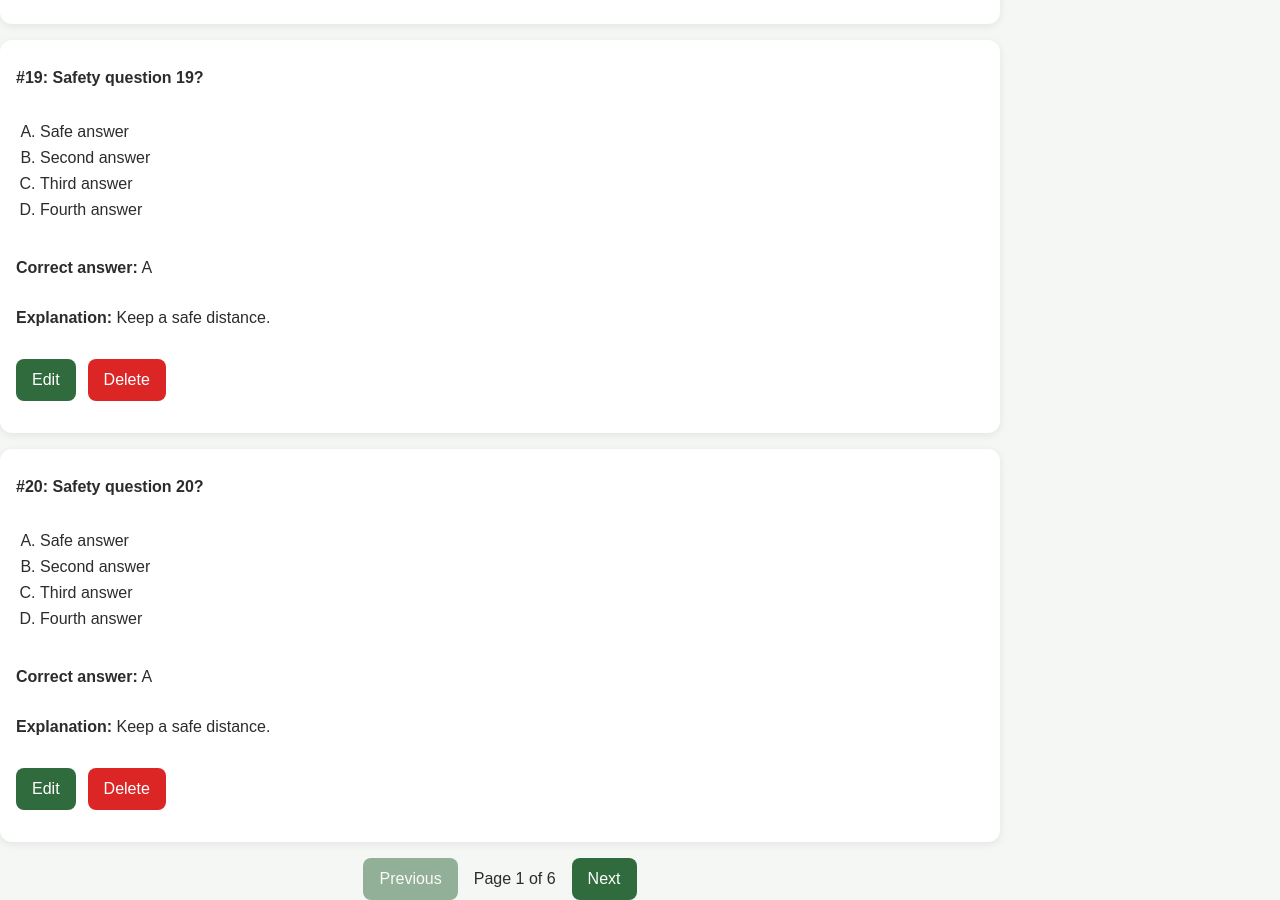
Scenario: Admin question bank › loads questions, displays read-only details and paginates a bank of 100+ questions
(page scrolled)
Expected: the button "Previous" is disabled, [364,858,458,899]
Step 1. Click the button "Next" → (604, 879), box [572,858,636,899]
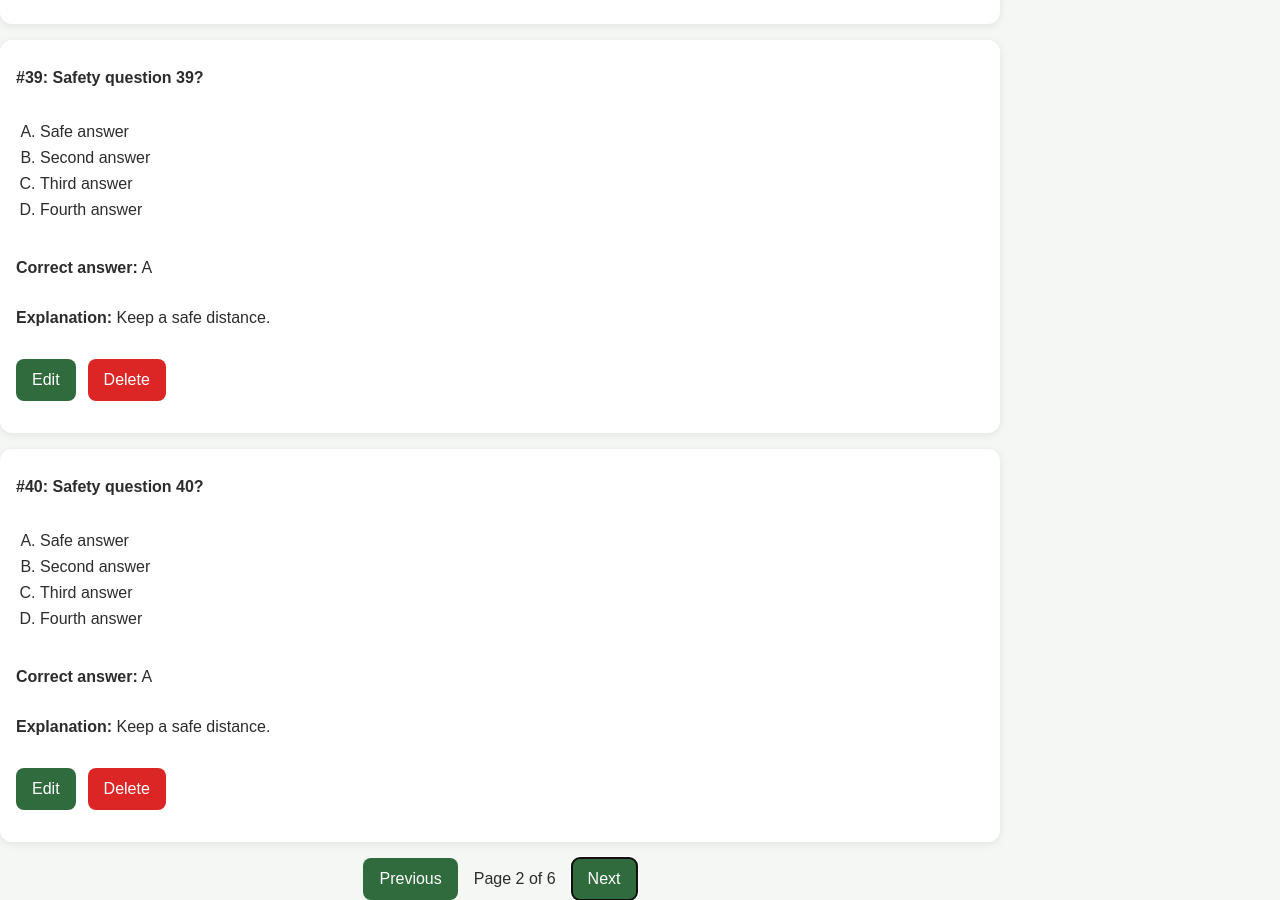
Expected: the text "Page 2 of 6" is shown, [474,870,556,888]
